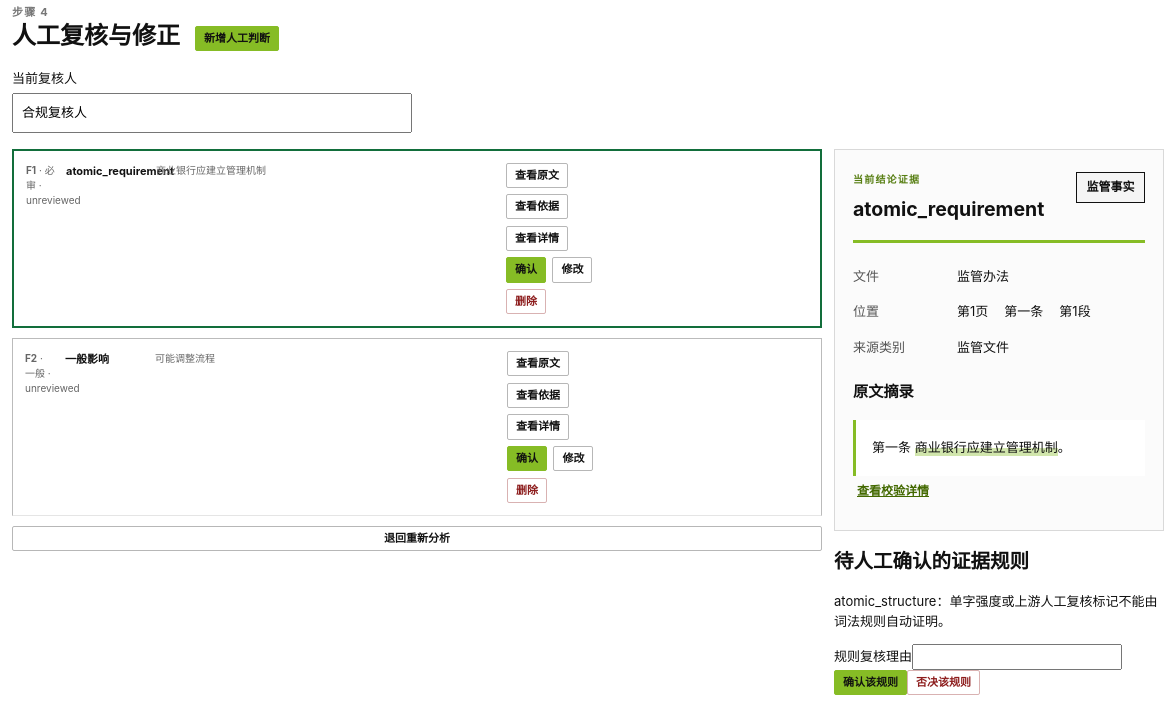
Test: orders required review first and keeps F1/F2 selection synced with evidence
The image size is (1176, 709).
Expected: the element with test id "review-item" shows "F1", [26, 164, 36, 176]
Step 1. Click the button "查看原文" in the row of "可能调整流程" → (538, 364), box [507, 351, 569, 376]
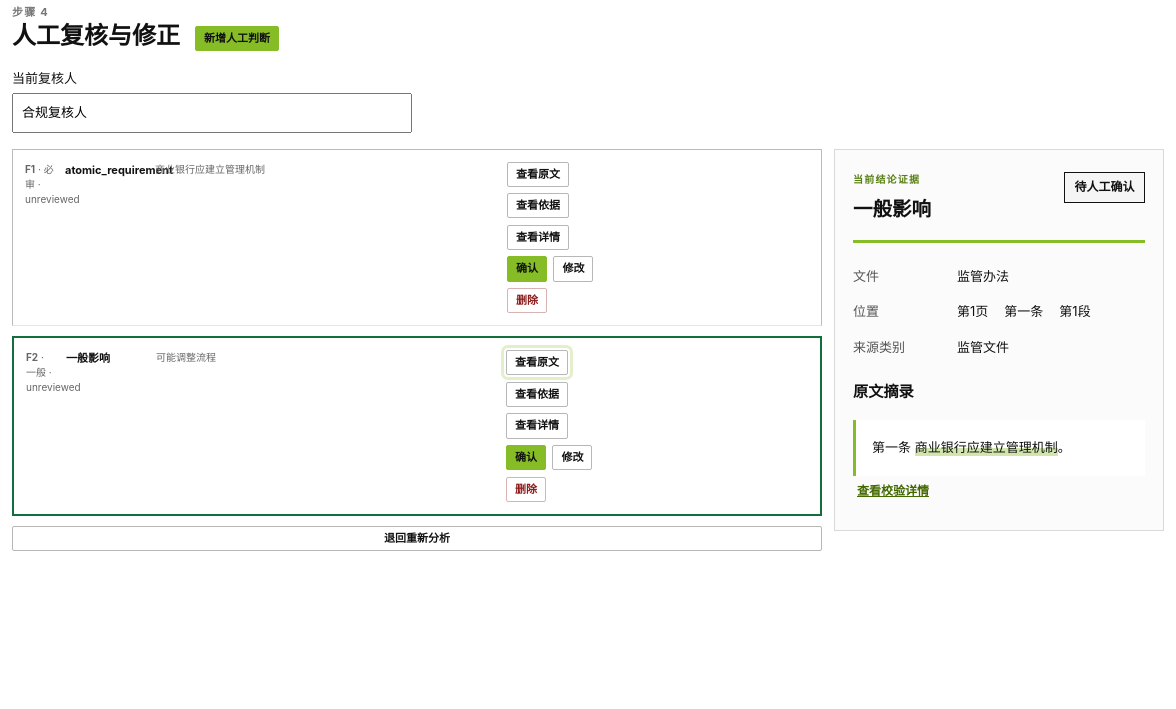
Expected: the text "可能调整流程" is shown, [156, 351, 216, 363]
Result: the heading "一般影响" below "当前结论证据" is shown at [853, 195, 931, 224]
Step 2. Click the 1st button "查看依据" → (538, 206), box [507, 193, 569, 218]
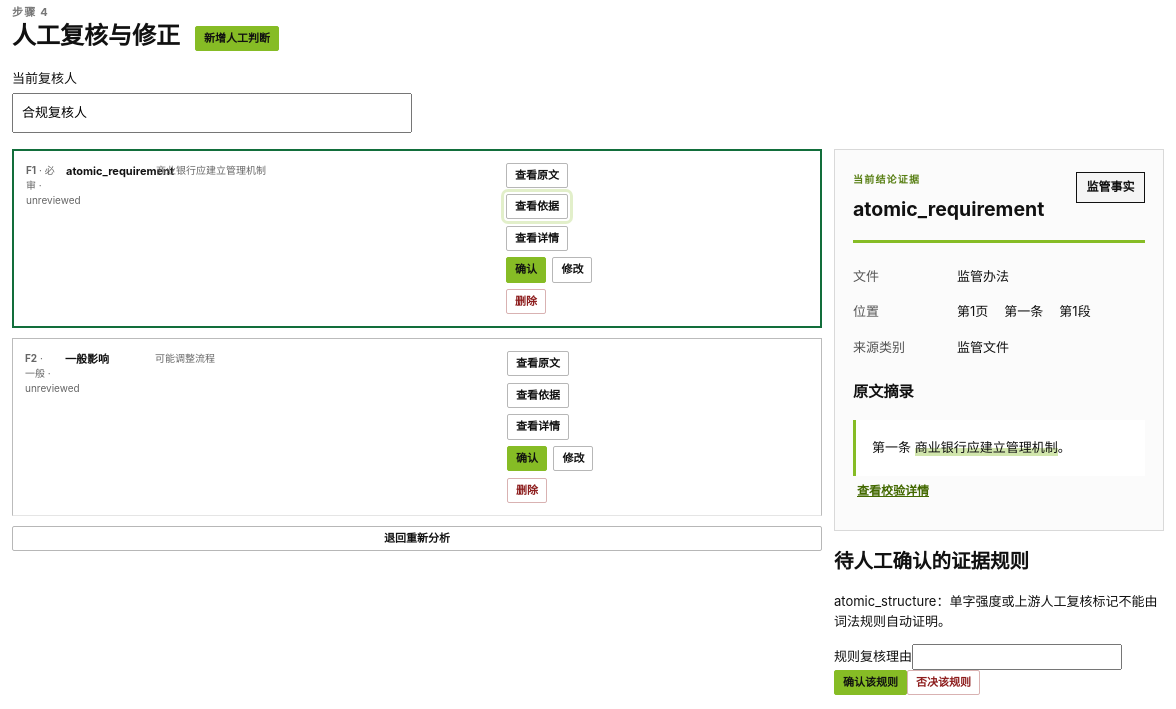
Expected: the text with test id "evidence-highlight" reads "商业银行应建立管理机制", [915, 439, 1058, 455]
Step 3. Click the 1st button "查看详情" → (537, 238), box [506, 226, 568, 251]
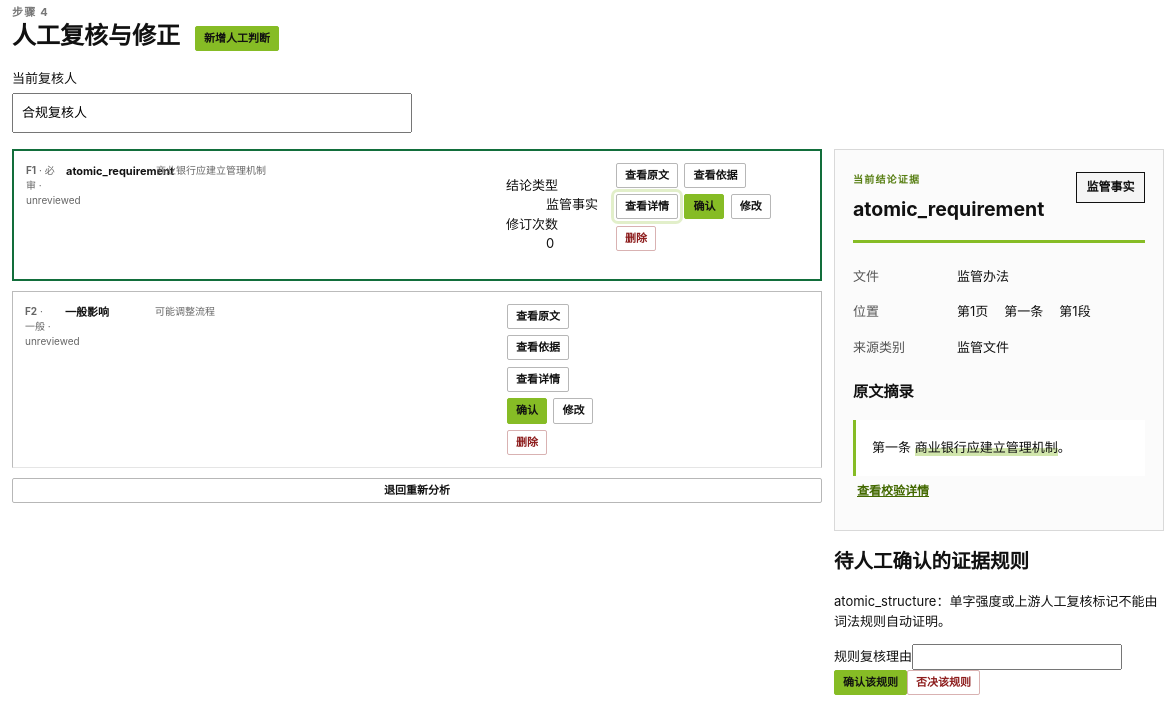
Result: the text "监管事实" below "结论类型" is shown at [546, 196, 598, 212]
